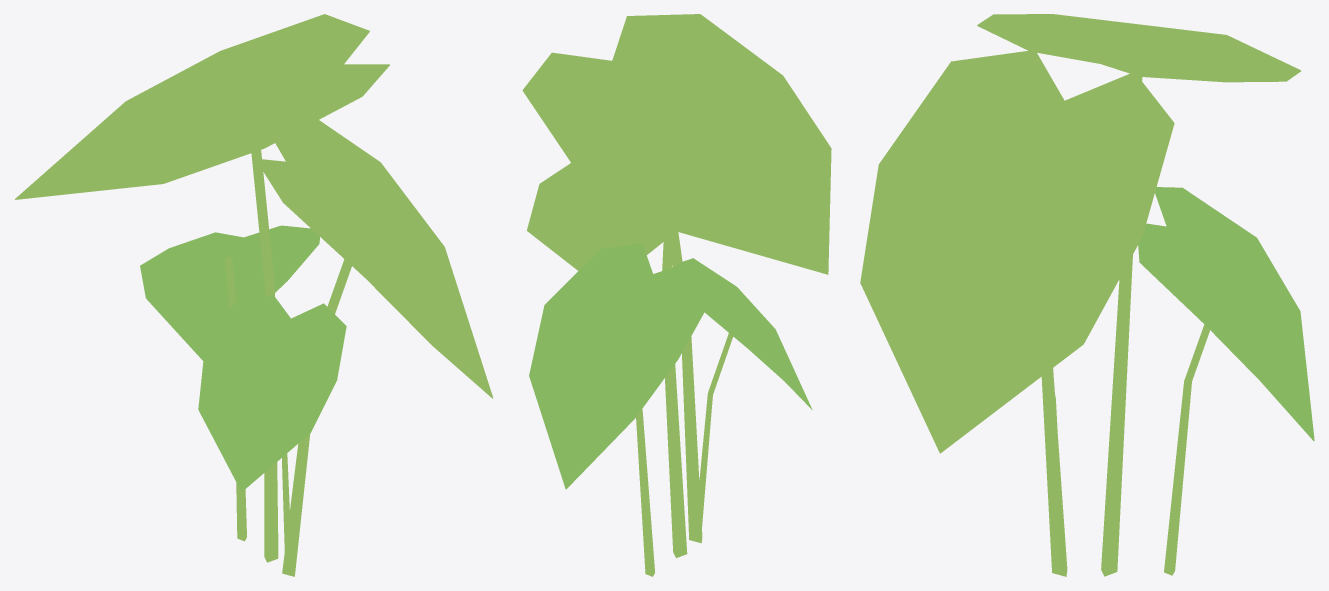
The model's file is Plant_d_TwoS_07.fbx.
3 views of the same model, side by side, from view 1: azimuth 30°, elevation 25°; view 2: azimuth 150°, elevation 25°; view 3: azimuth 270°, elevation 25° (orthographic). The views are drawn at different scales.
Visible parts, largest first — view 1: Plant_d_TwoS_07; view 2: Plant_d_TwoS_07; view 3: Plant_d_TwoS_07.
Part boxes in pixels (bbox=[...]): Plant_d_TwoS_07: bbox=[15, 14, 492, 576]; Plant_d_TwoS_07: bbox=[522, 14, 831, 576]; Plant_d_TwoS_07: bbox=[860, 14, 1314, 576].
Bounding box in the file's own units: 0.6562 × 0.8507 × 0.6147.
